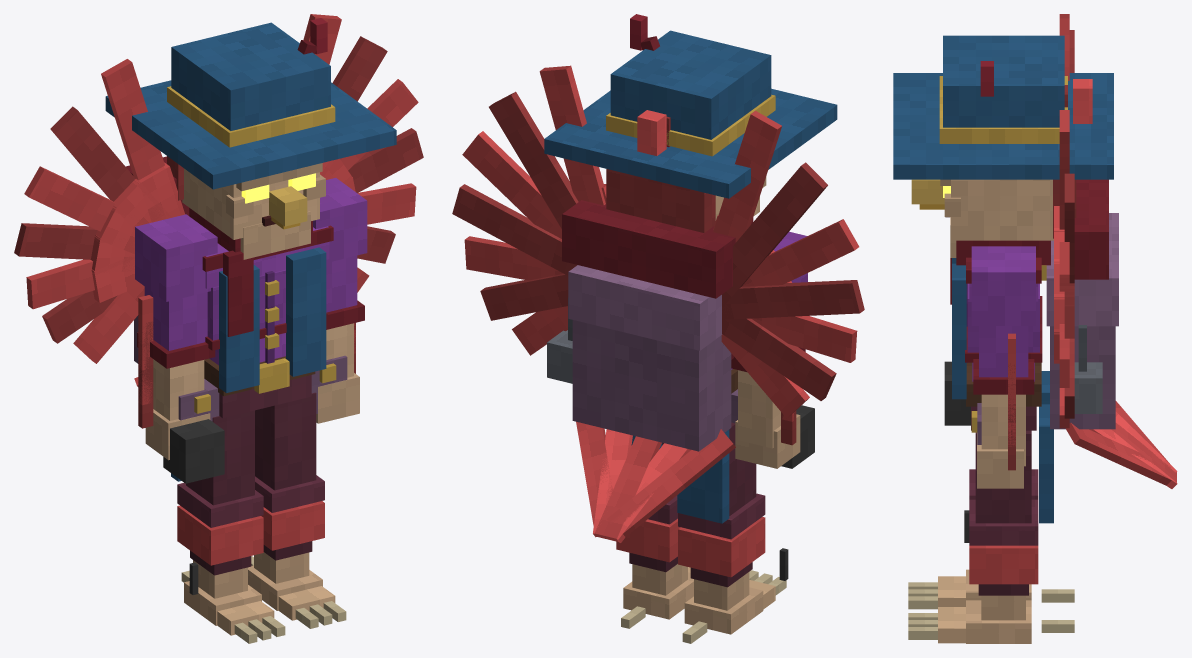
Rendered from harpy_marchand_v2.glb.
3 renders of one model, left to right at view 1: azimuth 30°, elevation 25°; view 2: azimuth 150°, elevation 25°; view 3: azimuth 270°, elevation 25°, orthographic. The views are drawn at different scales.
Visible parts, largest first — view 1: Torso, Head, ArmR, LegL, LegR, ArmL, HandR, Root; view 2: Torso, Head, LegR, LegL, ArmR, HandR, Root; view 3: Head, Torso, ArmL, LegL, Root, LegR, HandR.
Part boxes in pixels (box(x1,y1,x2,y2)): Torso: box(14, 14, 423, 481); Head: box(105, 18, 396, 259); ArmR: box(135, 214, 217, 460); LegL: box(248, 392, 335, 620); LegR: box(177, 410, 274, 635); ArmL: box(313, 178, 367, 423); HandR: box(163, 419, 224, 594); Root: box(181, 556, 346, 643); Torso: box(452, 65, 864, 542); Head: box(544, 14, 837, 232); LegR: box(678, 422, 775, 634); LegL: box(616, 442, 693, 619); ArmR: box(731, 231, 807, 468); HandR: box(779, 405, 814, 580); Root: box(621, 570, 786, 643); Head: box(893, 35, 1113, 265); Torso: box(950, 14, 1177, 523); ArmL: box(971, 246, 1035, 488); LegL: box(938, 430, 1038, 643); Root: box(908, 582, 1074, 639); LegR: box(938, 469, 1038, 606); HandR: box(944, 361, 970, 542).
Size of the model in its own units: 1.46 by 1.95 by 0.8628.
Materials: 37 (37 with a texture image).
